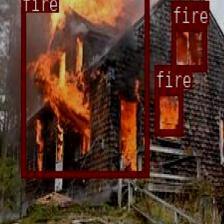fire: (21, 0, 147, 177), (171, 23, 206, 70), (154, 88, 182, 135)
